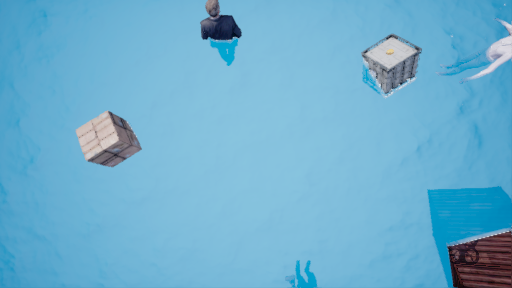person: (442, 26, 512, 93), (195, 2, 253, 78)
